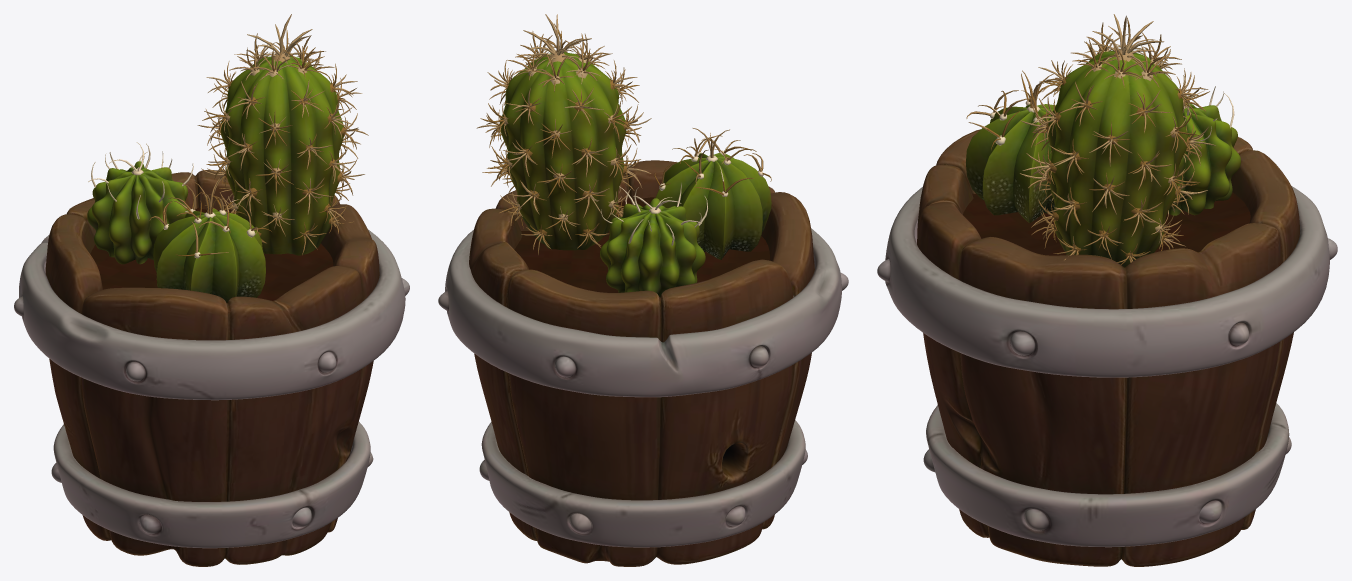
File: obj_cacti_pot_71b53e.glb
3 renders of one model, left to right at view 1: azimuth 30°, elevation 25°; view 2: azimuth 150°, elevation 25°; view 3: azimuth 270°, elevation 25°, orthographic. The views are drawn at different scales.
Parts seen in each view (by area): view 1: obj_cacti_pot_71b53e; view 2: obj_cacti_pot_71b53e; view 3: obj_cacti_pot_71b53e.
Part boxes in pixels (x1,y1,x2,y2): obj_cacti_pot_71b53e: (14,14,409,566); obj_cacti_pot_71b53e: (438,14,848,566); obj_cacti_pot_71b53e: (877,14,1337,566).
Size of the model in its own units: 0.4361 by 0.6 by 0.4598.
1 material, 1 textured.
